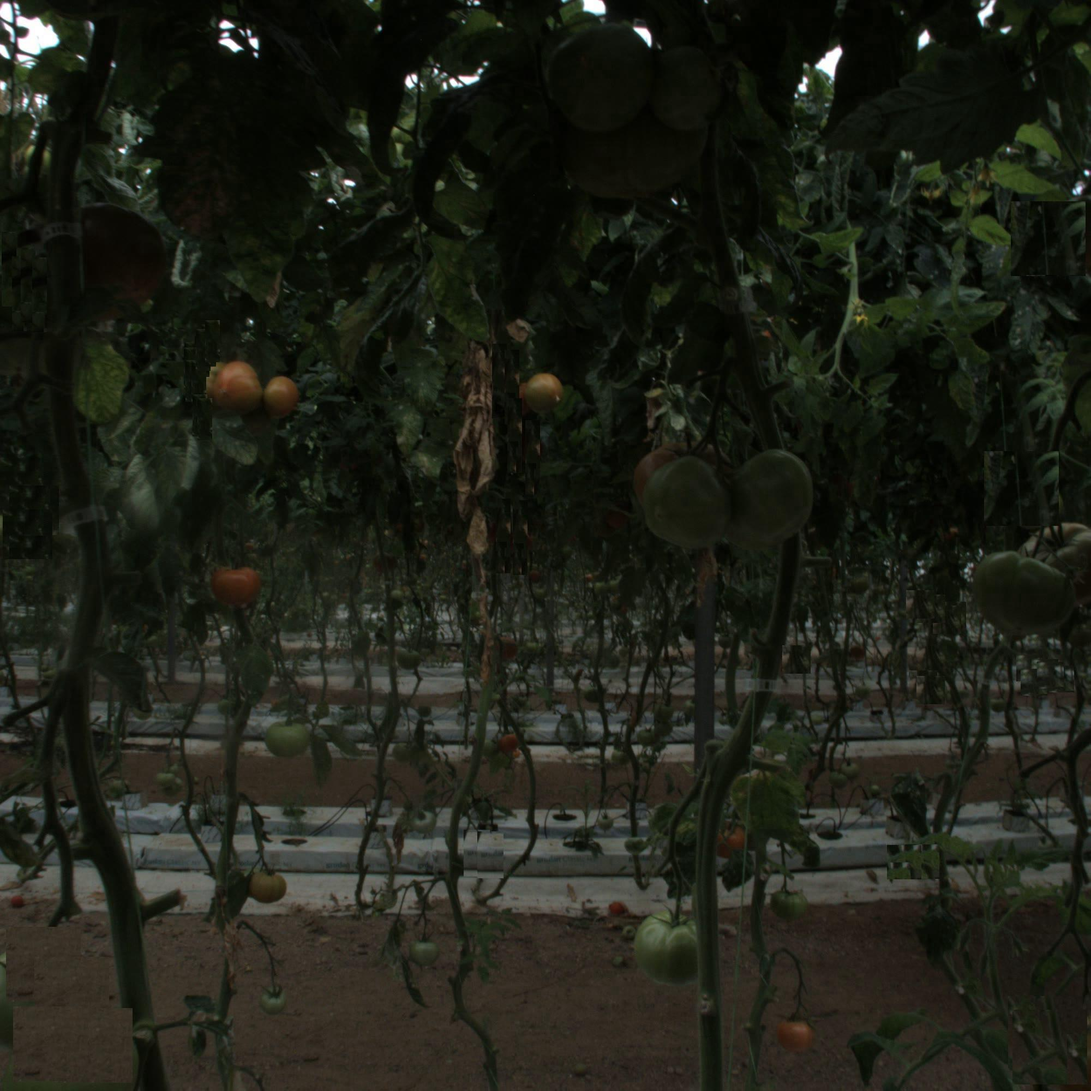fully-ripe: (776, 1017, 815, 1056)
semi-ripe: (52, 208, 172, 328), (208, 360, 262, 415), (522, 370, 567, 415), (211, 563, 256, 608), (247, 865, 290, 907), (261, 376, 301, 416)
unripe: (564, 72, 696, 204), (546, 21, 654, 129), (634, 453, 735, 555), (718, 447, 819, 549), (639, 42, 727, 129), (976, 550, 1059, 633), (636, 907, 710, 981), (263, 715, 308, 760)
